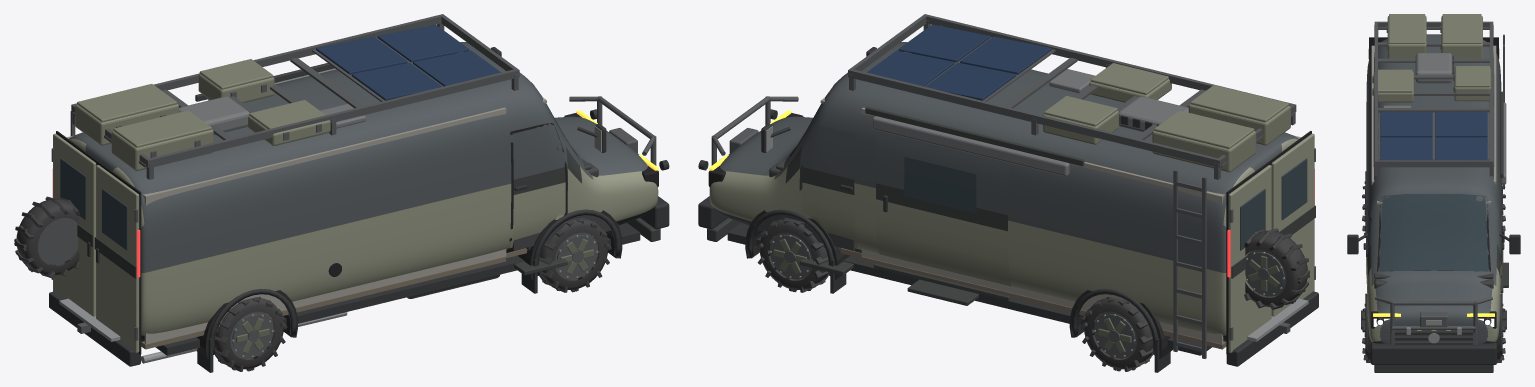
Rendered from sprinter.glb.
The picture shows the model from 3 angles, left to right: view 1: azimuth 30°, elevation 25°; view 2: azimuth 150°, elevation 25°; view 3: azimuth 270°, elevation 25°; orthographic projection. The views are drawn at different scales.
Parts seen in each view (by area): view 1: BodyShell, CabDoorR, DoorLeaf.001, DoorLeaf, Underbody, LivWall.001, RackRailSide.001, CaseBig1Lid, SolarPanel, SolarPanel.001, SolarPanel.003, CaseBig2Lid (+31 smaller); view 2: BodyShell, SlidePanel, CabDoorL, DoorLeaf, RackRailSide, DoorLeaf.001, AwningCase, SlideWindow, LivWall, Underbody, CaseBig1Lid, RackRailSide.001 (+39 smaller); view 3: BodyShell, Windshield, FrontBumperFace, SolarPanel.001, SolarPanel.003, SolarPanel, SolarPanel.002, CaseBig1Lid, CaseBig2Lid, ACCowl, FrontValance, RackRailEnd (+33 smaller).
Boxes of the visible parts, left/top/right/bottom form: BodyShell: left=69, top=42, right=658, bottom=341; CabDoorR: left=510, top=125, right=565, bottom=247; DoorLeaf.001: left=96, top=165, right=139, bottom=352; DoorLeaf: left=53, top=133, right=96, bottom=316; Underbody: left=155, top=223, right=640, bottom=355; LivWall.001: left=144, top=111, right=506, bottom=344; RackRailSide.001: left=149, top=69, right=516, bottom=166; CaseBig1Lid: left=77, top=84, right=177, bottom=122; SolarPanel: left=377, top=24, right=469, bottom=62; SolarPanel.001: left=316, top=36, right=407, bottom=74; SolarPanel.003: left=351, top=62, right=442, bottom=100; CaseBig2Lid: left=113, top=110, right=211, bottom=147; BodyShell: left=709, top=42, right=1298, bottom=341; SlidePanel: left=876, top=130, right=1011, bottom=286; CabDoorL: left=802, top=125, right=857, bottom=247; DoorLeaf: left=1228, top=165, right=1271, bottom=352; RackRailSide: left=850, top=69, right=1218, bottom=166; DoorLeaf.001: left=1271, top=133, right=1314, bottom=316; AwningCase: left=872, top=116, right=1069, bottom=176; SlideWindow: left=904, top=157, right=976, bottom=213; LivWall: left=861, top=111, right=1223, bottom=343; Underbody: left=727, top=223, right=1211, bottom=355; CaseBig1Lid: left=1154, top=110, right=1254, bottom=148; RackRailSide.001: left=925, top=15, right=1293, bottom=105; BodyShell: left=1366, top=34, right=1501, bottom=343; Windshield: left=1379, top=194, right=1488, bottom=271; FrontBumperFace: left=1371, top=342, right=1496, bottom=364; SolarPanel.001: left=1435, top=112, right=1487, bottom=137; SolarPanel.003: left=1380, top=112, right=1432, bottom=137; SolarPanel: left=1435, top=137, right=1487, bottom=160; SolarPanel.002: left=1380, top=137, right=1432, bottom=160; CaseBig1Lid: left=1442, top=14, right=1481, bottom=43; CaseBig2Lid: left=1389, top=14, right=1425, bottom=43; ACCowl: left=1415, top=53, right=1452, bottom=83; FrontValance: left=1374, top=365, right=1493, bottom=372; RackRailEnd: left=1374, top=160, right=1493, bottom=167.
Bounding box in the file's own units: 7.89 × 3.06 × 2.59.
